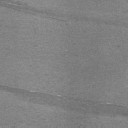finishing roll printing: (0, 84, 128, 116), (0, 0, 128, 28)
